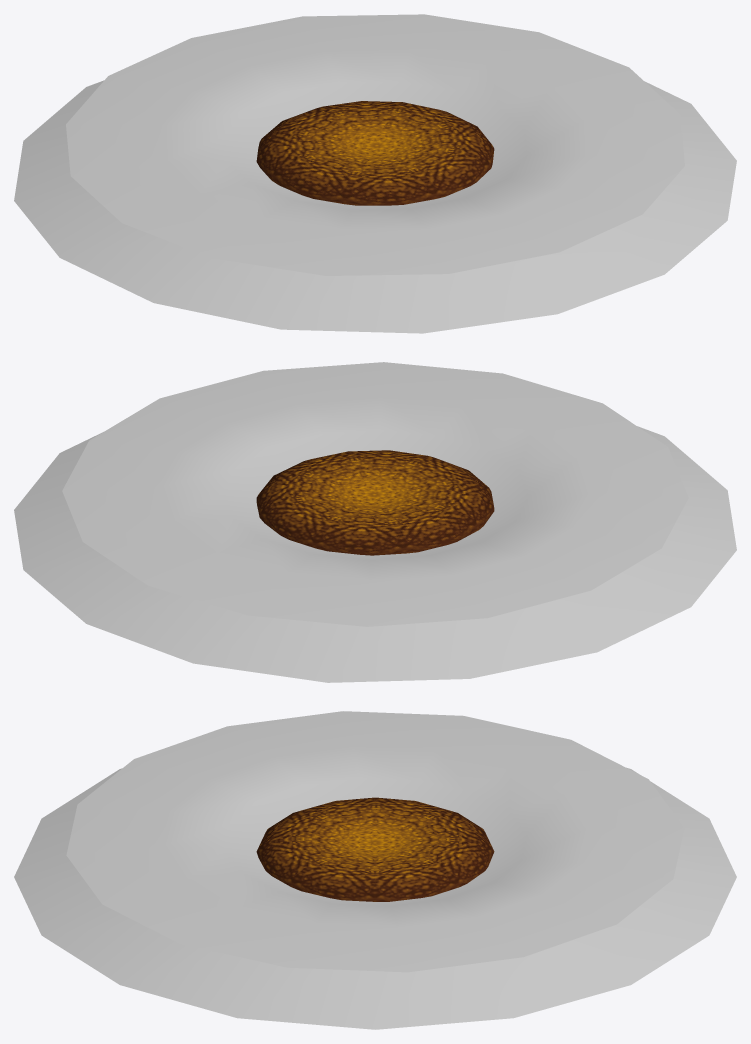
Rendered from Sunflower.fbx.
3 renders of one model, top to bottom at view 1: azimuth 30°, elevation 25°; view 2: azimuth 150°, elevation 25°; view 3: azimuth 270°, elevation 25°, orthographic.
Parts seen in each view (by area): view 1: Sunflower_Petal, Sunflower_Petal1, Sunflower_core; view 2: Sunflower_Petal, Sunflower_Petal1, Sunflower_core; view 3: Sunflower_Petal, Sunflower_Petal1, Sunflower_core.
Boxes of the visible parts, x1,y1,x2,y2 form: Sunflower_Petal: (66, 14, 684, 275); Sunflower_Petal1: (14, 80, 736, 333); Sunflower_core: (256, 101, 494, 205); Sunflower_Petal: (62, 362, 688, 626); Sunflower_Petal1: (14, 426, 736, 682); Sunflower_core: (256, 450, 494, 555); Sunflower_Petal: (66, 711, 684, 972); Sunflower_Petal1: (14, 767, 736, 1029); Sunflower_core: (256, 797, 494, 901).
Size of the model in its own units: 40.33 by 4.35 by 40.33.
